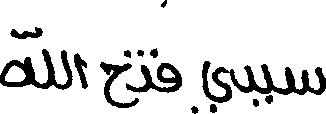X: (157, 0, 181, 97), (0, 24, 34, 91), (103, 45, 130, 112), (203, 56, 231, 113), (284, 62, 325, 99), (43, 44, 54, 93), (262, 59, 273, 108), (141, 45, 151, 96), (76, 48, 87, 93), (62, 45, 72, 94), (247, 60, 254, 110)
